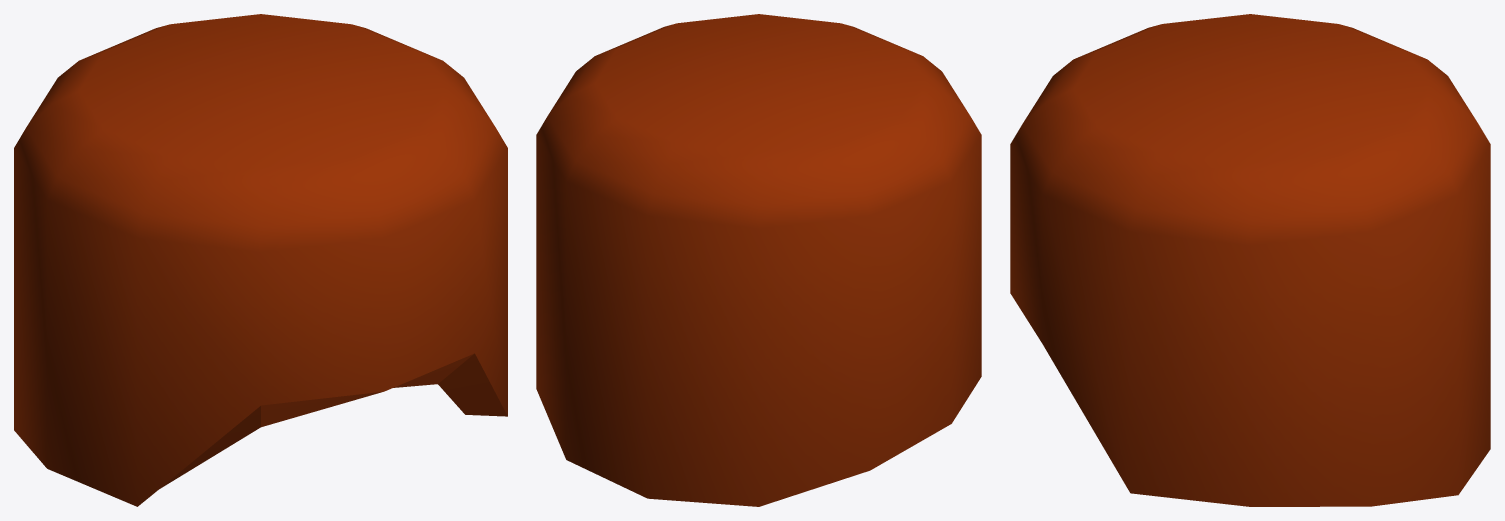
Rendered from Hair_11_C02.fbx.
3 renders of one model, left to right at view 1: azimuth 30°, elevation 25°; view 2: azimuth 150°, elevation 25°; view 3: azimuth 270°, elevation 25°, orthographic. The views are drawn at different scales.
Visible parts, largest first — view 1: Hair_11_C02; view 2: Hair_11_C02; view 3: Hair_11_C02.
Part boxes in pixels (x1,y1,x2,y2): Hair_11_C02: (14,14,507,506); Hair_11_C02: (536,14,981,506); Hair_11_C02: (1010,14,1490,506).
Bounding box in the file's own units: 110 × 91.11 × 110.
